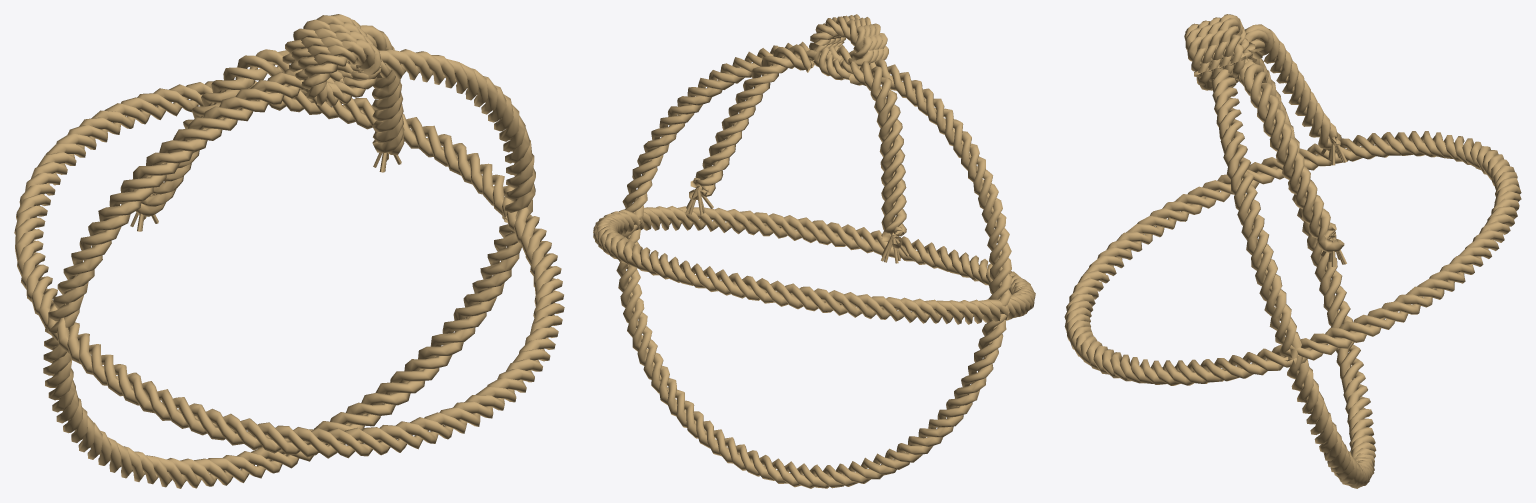
The model's file is SlipKnot_Rope.fbx.
3 views of the same model, side by side, from view 1: azimuth 30°, elevation 25°; view 2: azimuth 150°, elevation 25°; view 3: azimuth 270°, elevation 25° (orthographic). The views are drawn at different scales.
Parts seen in each view (by area): view 1: SK_Knot; view 2: SK_Knot; view 3: SK_Knot.
Part boxes in pixels (x1=…): SK_Knot: x1=14, y1=14, x2=564, y2=488; SK_Knot: x1=593, y1=14, x2=1035, y2=488; SK_Knot: x1=1064, y1=14, x2=1521, y2=488.
Size of the model in its own units: 457 by 471 by 436.
